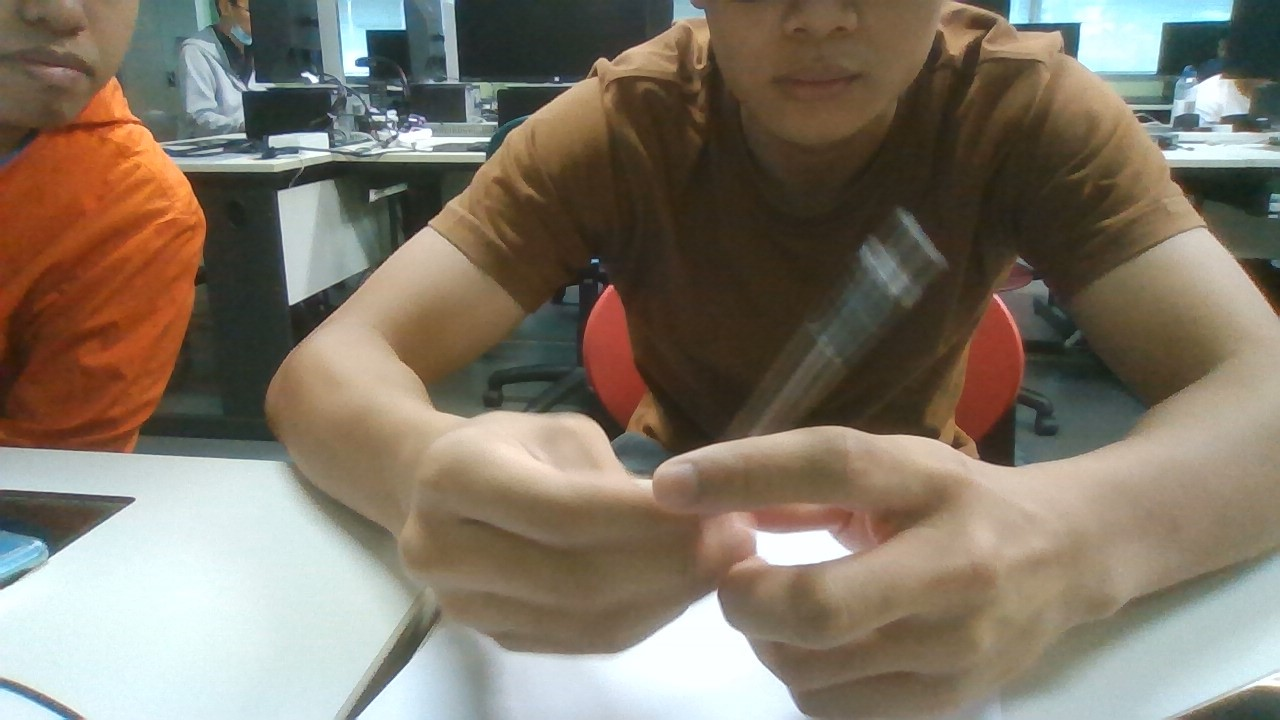pen: (680, 219, 944, 555)
